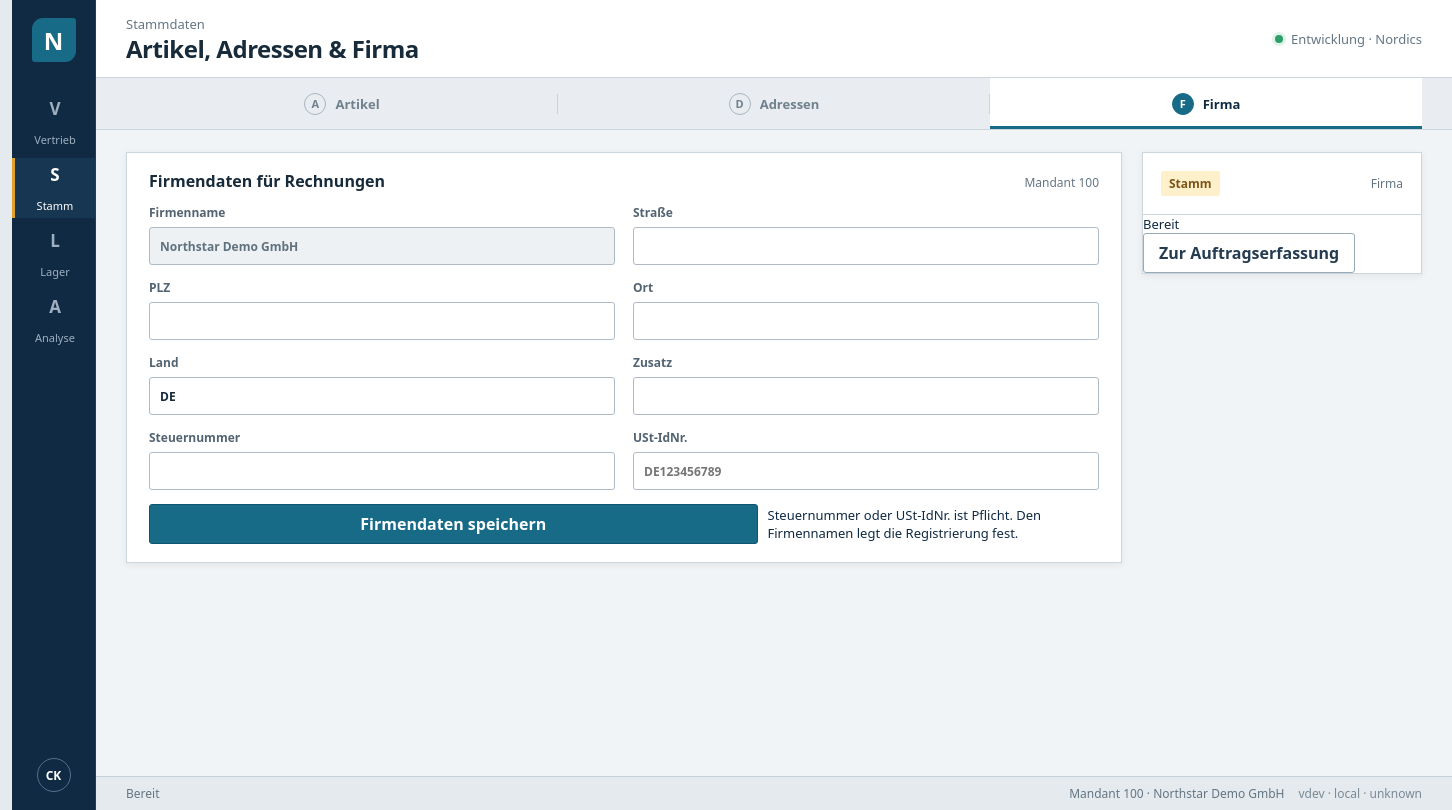
Scenario: edits the seller details on the Firma tab with a read-only Firmenname
Expected: the field showing "Northstar Demo GmbH" is disabled, [149,227,615,265]
Type "Hafenstraße 1" into the field labelled "Straße" at (866, 246), box [633,227,1099,265]
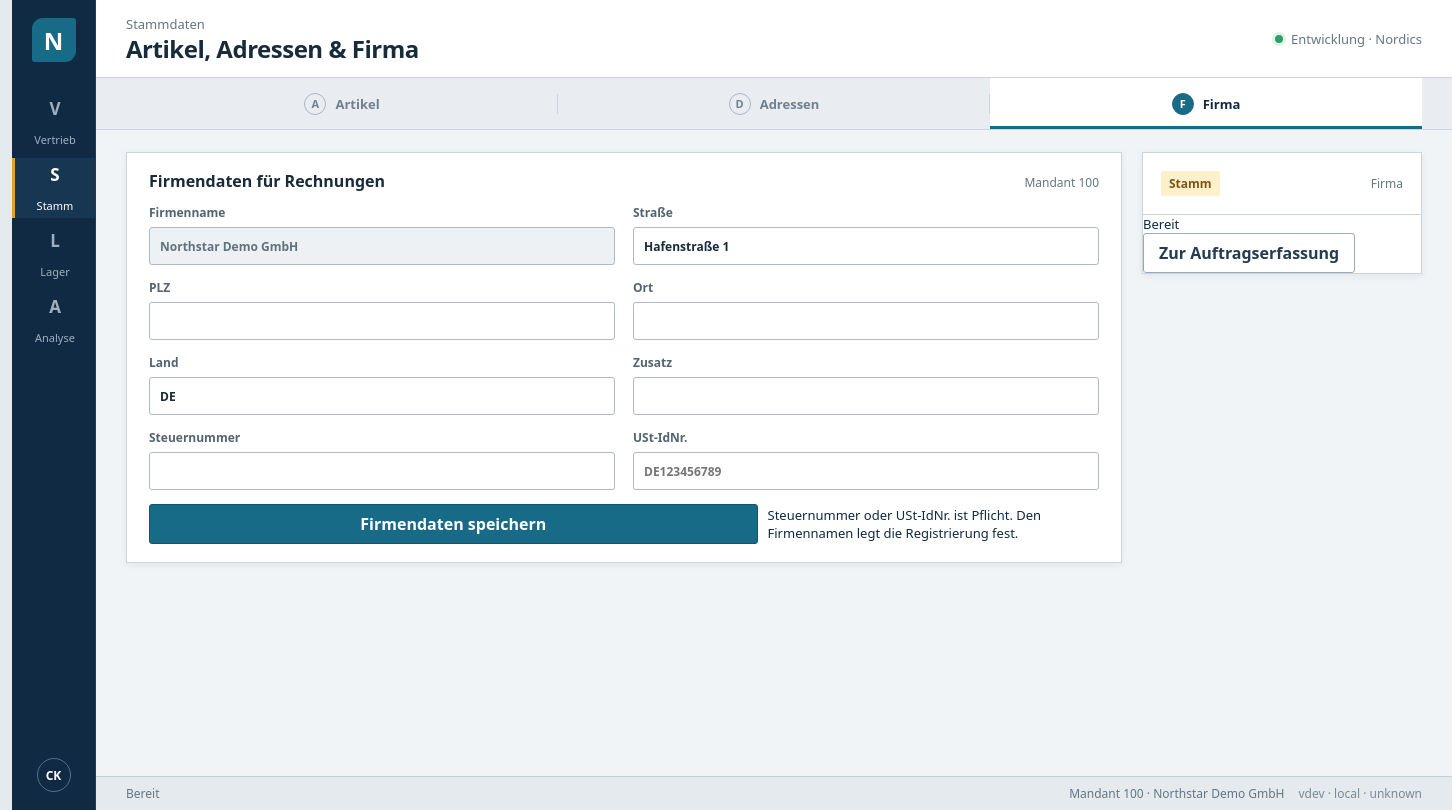
Type "20095" into the field labelled "PLZ" at (382, 321), box [149,302,615,340]
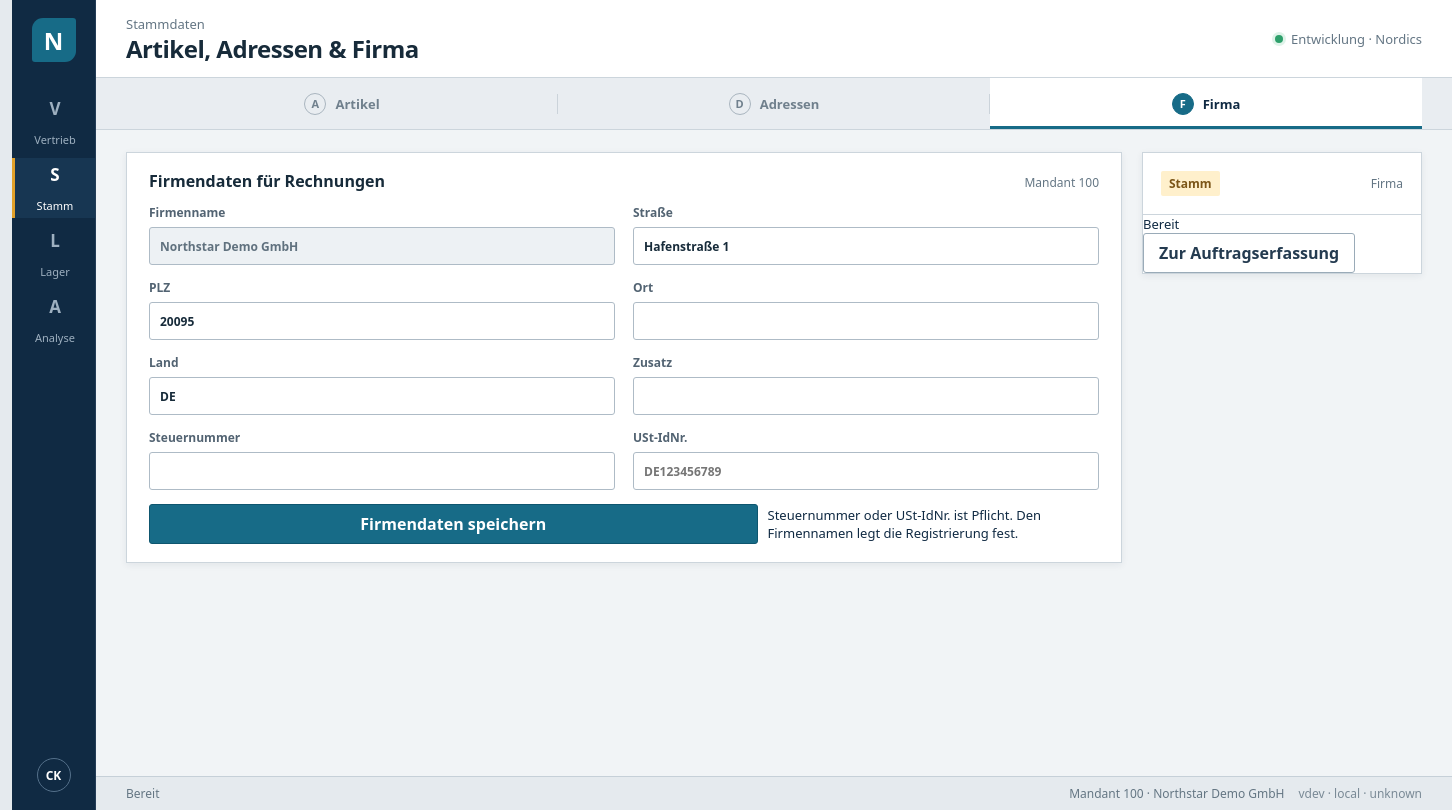
Type "Hamburg" into the field labelled "Ort" at (866, 321), box [633,302,1099,340]
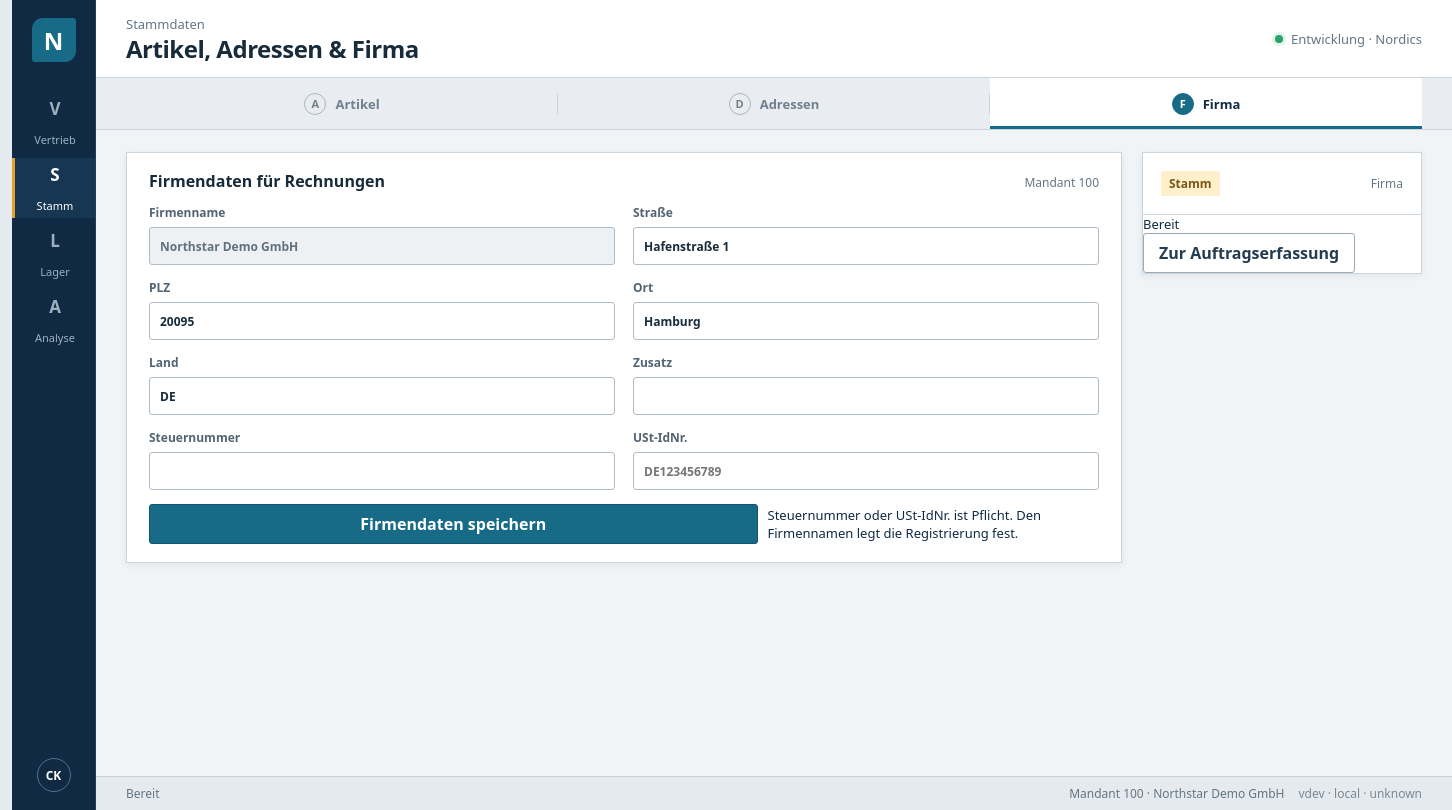
Type "de 123 456 789" into the field labelled "USt-IdNr." at (866, 471), box [633,452,1099,490]
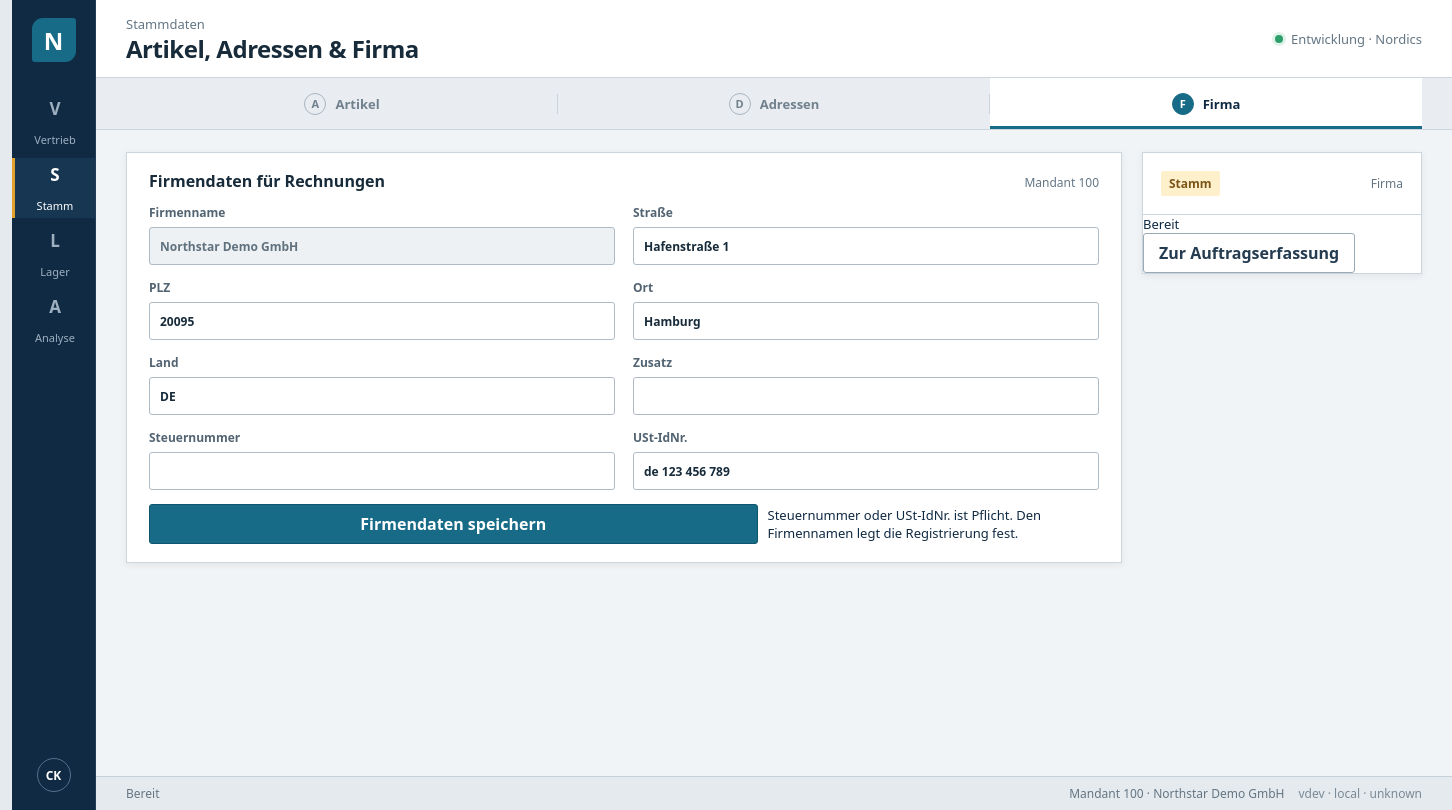
Click the button "Firmendaten speichern" at (453, 524), box [149,504,758,544]
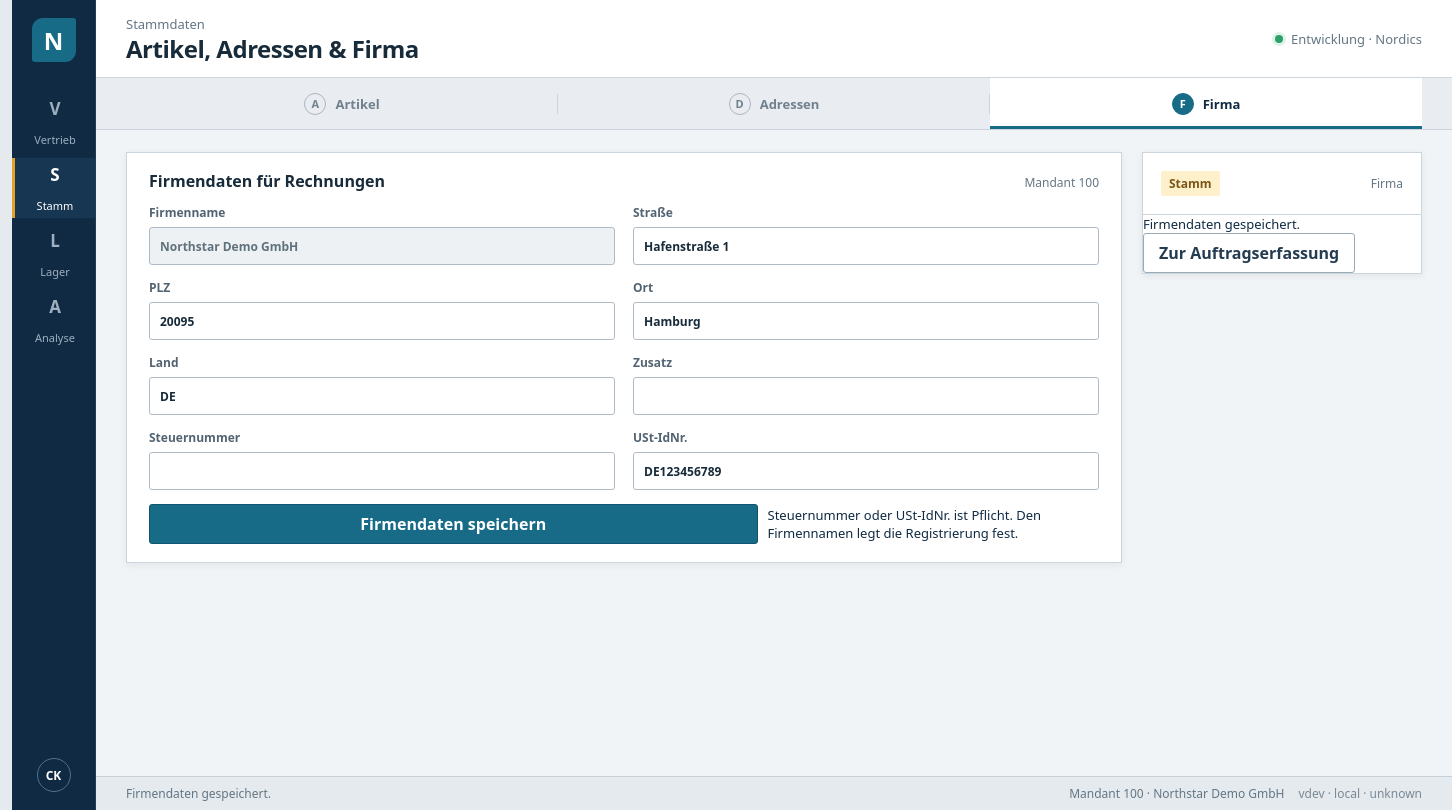
Expected: the text "Firmendaten gespeichert." in the row of "Straße" is shown, [1143,215,1300,233]
Expected: the field labelled "USt-IdNr." holds "DE123456789", [633,452,1099,490]
